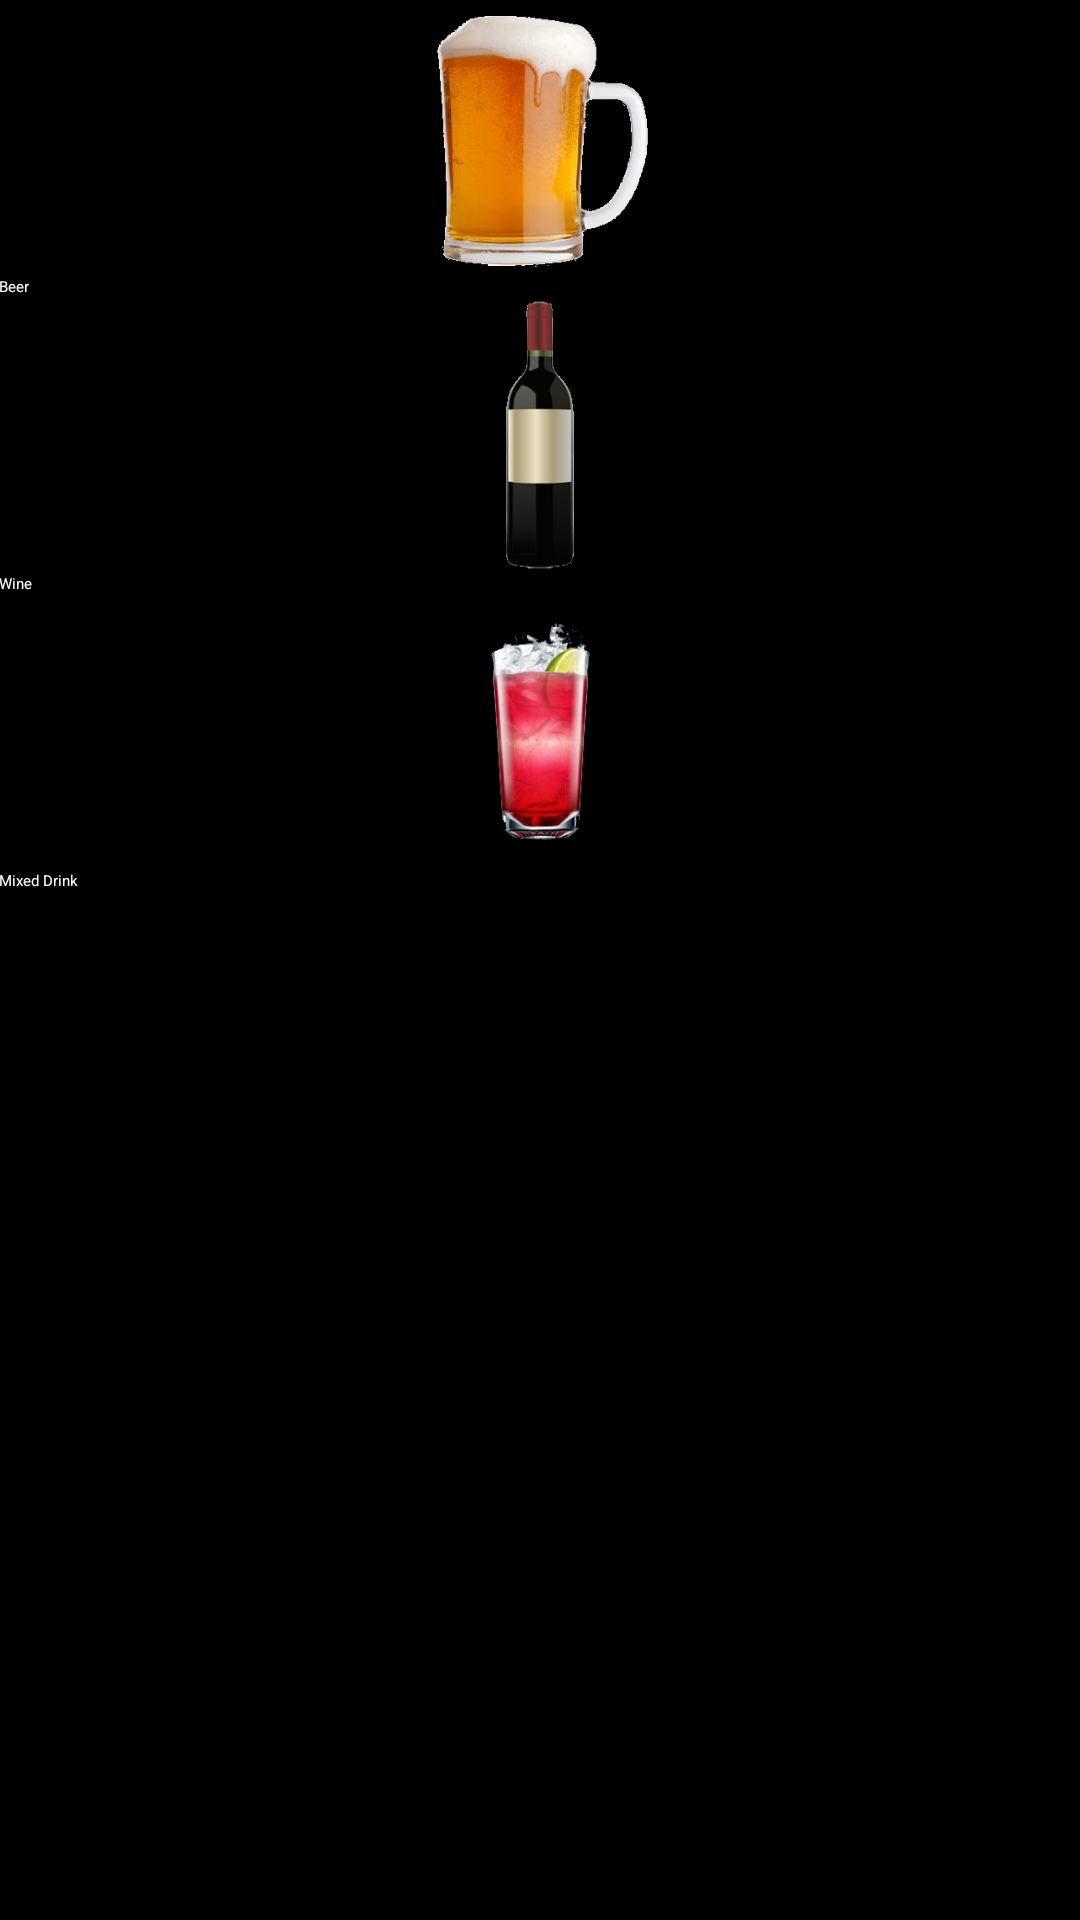

Named icons in this screenshot (1080 x 1920) and their centers, (x=x, y=y):
mixdrink: (x=540, y=731)
